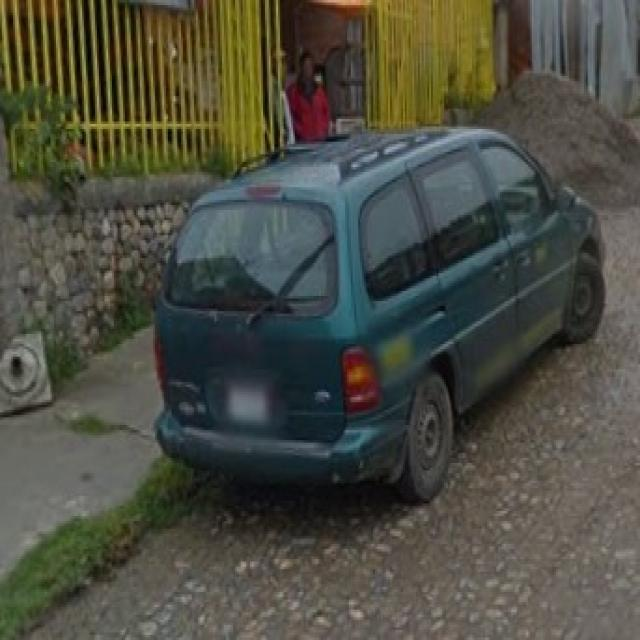cars: (144, 135, 607, 492)
